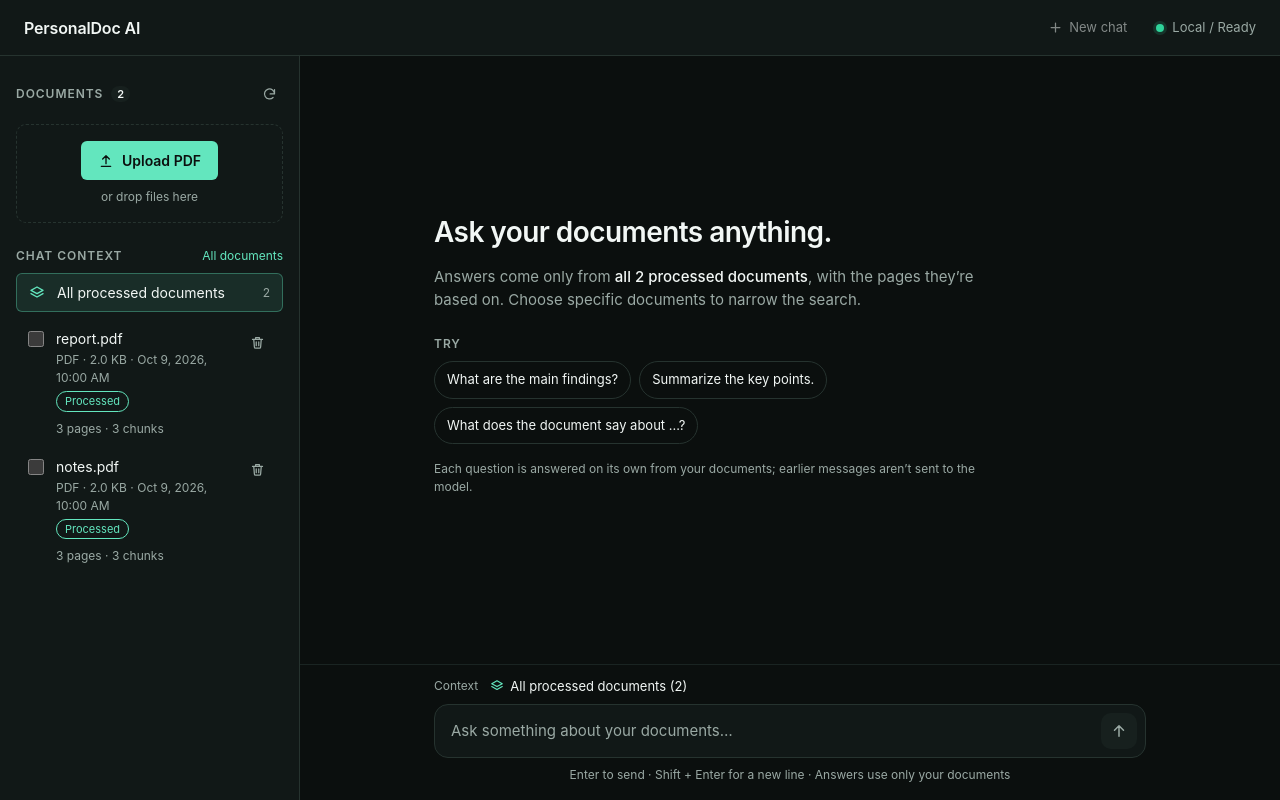
Test: source excerpts › keeps several chunks from the same page individually accessible
The image size is (1280, 800).
Type "What happened?" into the text box named "ask a question" at {"x": 772, "y": 732}, box [451, 714, 1093, 749]
Then press Enter
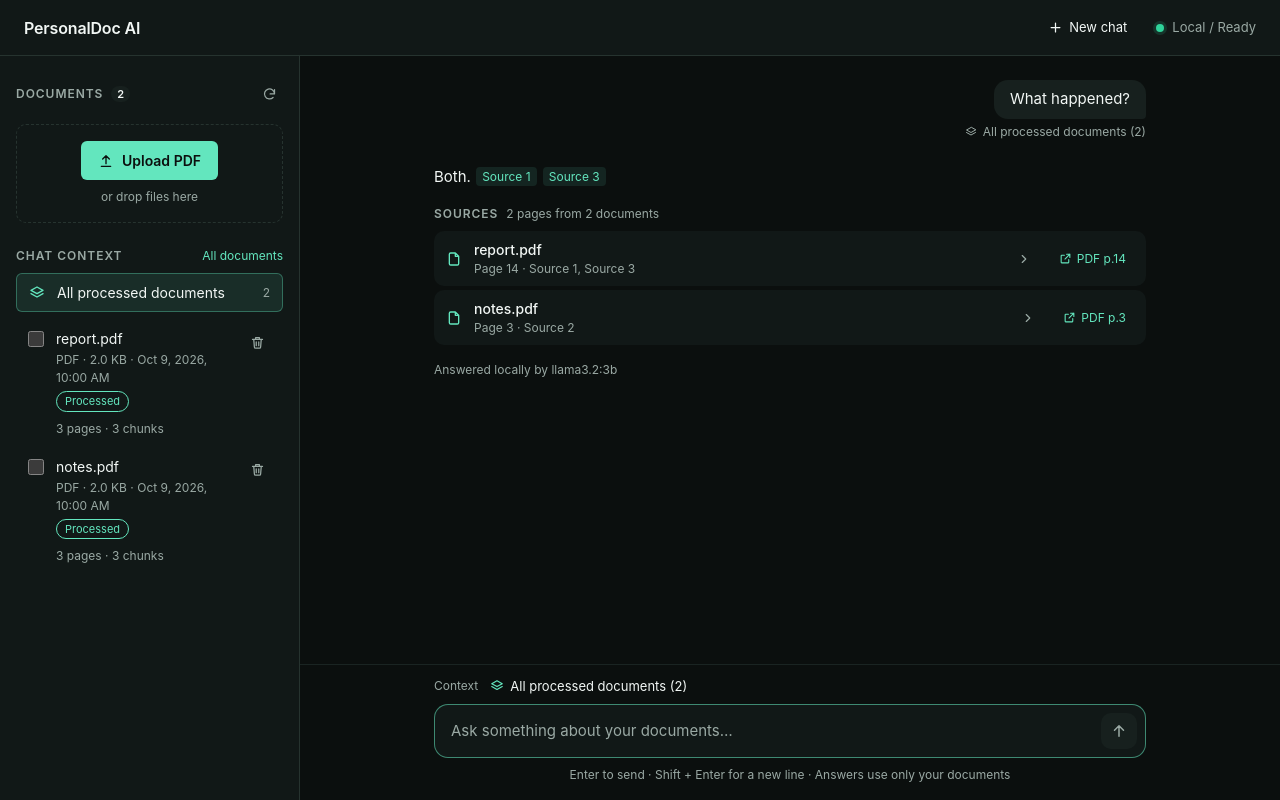
Now the element "Sources" is shown, box [434, 205, 1146, 345]
Now the text "Page 14 · Source 1, Source 3" is shown, box [474, 261, 635, 276]
Click the button "report.pdf Page 14 · Source 1, Source 3" at {"x": 508, "y": 250}, box [434, 231, 1043, 286]
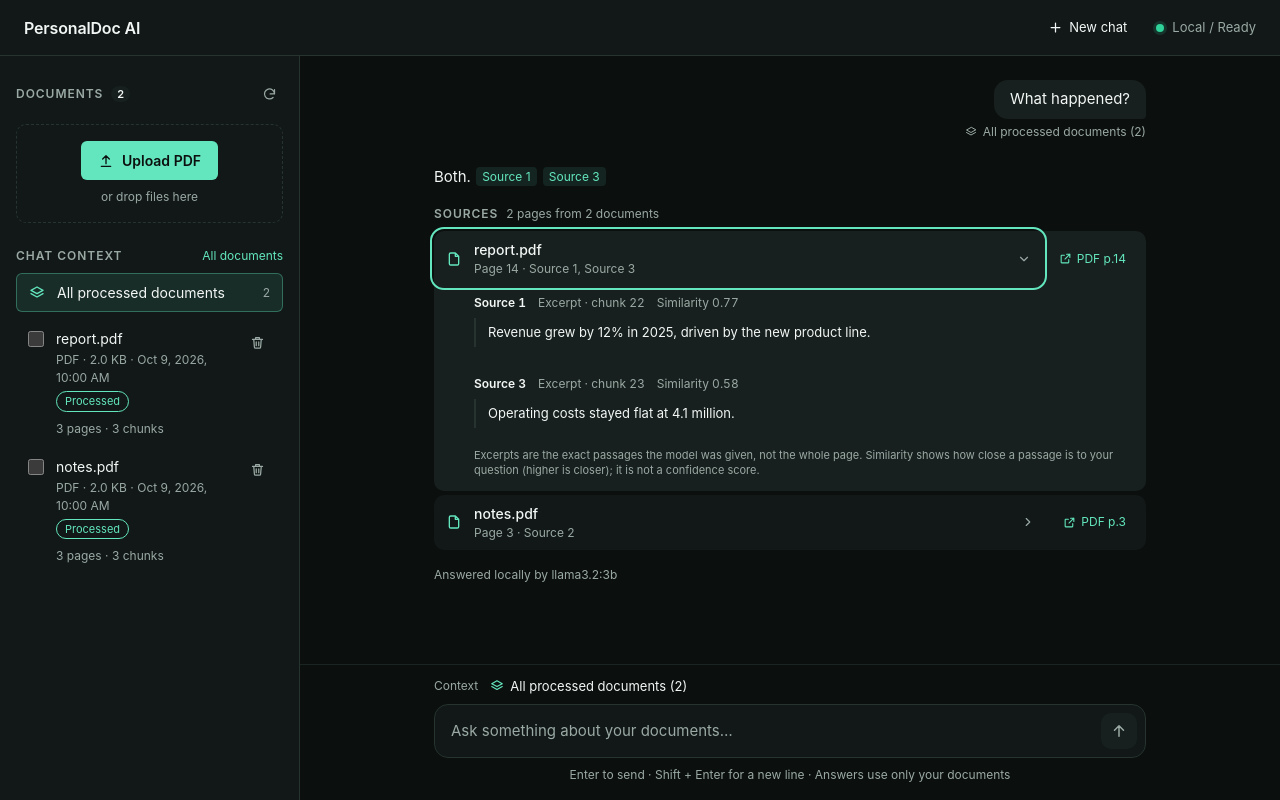
Now the text "Source 1" is shown, box [474, 294, 526, 312]
Now the text "Revenue grew by 12% in 2025, driven by the new product line." is shown, box [474, 318, 1134, 347]
Now the text "Excerpt · chunk 22" is shown, box [538, 294, 645, 312]
